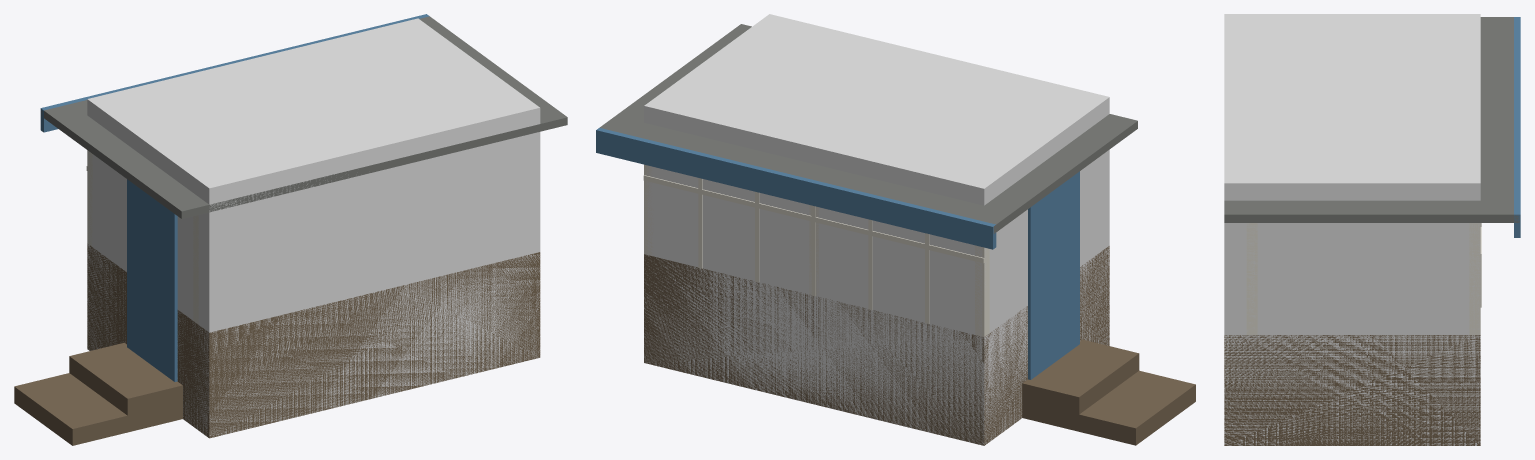
The model's file is izba-porch-2.glb.
The picture shows the model from 3 angles, left to right: view 1: azimuth 30°, elevation 25°; view 2: azimuth 150°, elevation 25°; view 3: azimuth 270°, elevation 25°; orthographic projection. The views are drawn at different scales.
Visible parts, largest first — view 1: solid, 00_#7a6a56, 04_paint0, 03_paint2, 01_#e6e2d6; view 2: solid, 00_#7a6a56, 04_paint0, 03_paint2, 01_#e6e2d6; view 3: solid, 00_#7a6a56, 03_paint2, 01_#e6e2d6, 04_paint0.
Boxes of the visible parts, bbox=[...] form: solid: bbox=[87, 18, 540, 437]; 00_#7a6a56: bbox=[14, 243, 540, 445]; 04_paint0: bbox=[40, 14, 429, 381]; 03_paint2: bbox=[41, 16, 567, 218]; 01_#e6e2d6: bbox=[86, 150, 198, 324]; solid: bbox=[644, 14, 1109, 445]; 00_#7a6a56: bbox=[644, 246, 1195, 445]; 04_paint0: bbox=[596, 128, 1079, 379]; 03_paint2: bbox=[599, 24, 1137, 233]; 01_#e6e2d6: bbox=[643, 164, 989, 336]; solid: bbox=[1224, 14, 1480, 445]; 00_#7a6a56: bbox=[1224, 335, 1480, 445]; 03_paint2: bbox=[1224, 17, 1519, 222]; 01_#e6e2d6: bbox=[1246, 223, 1481, 334]; 04_paint0: bbox=[1514, 17, 1520, 237].
Size of the model in its own units: 5.1 by 2.6 by 2.66.
